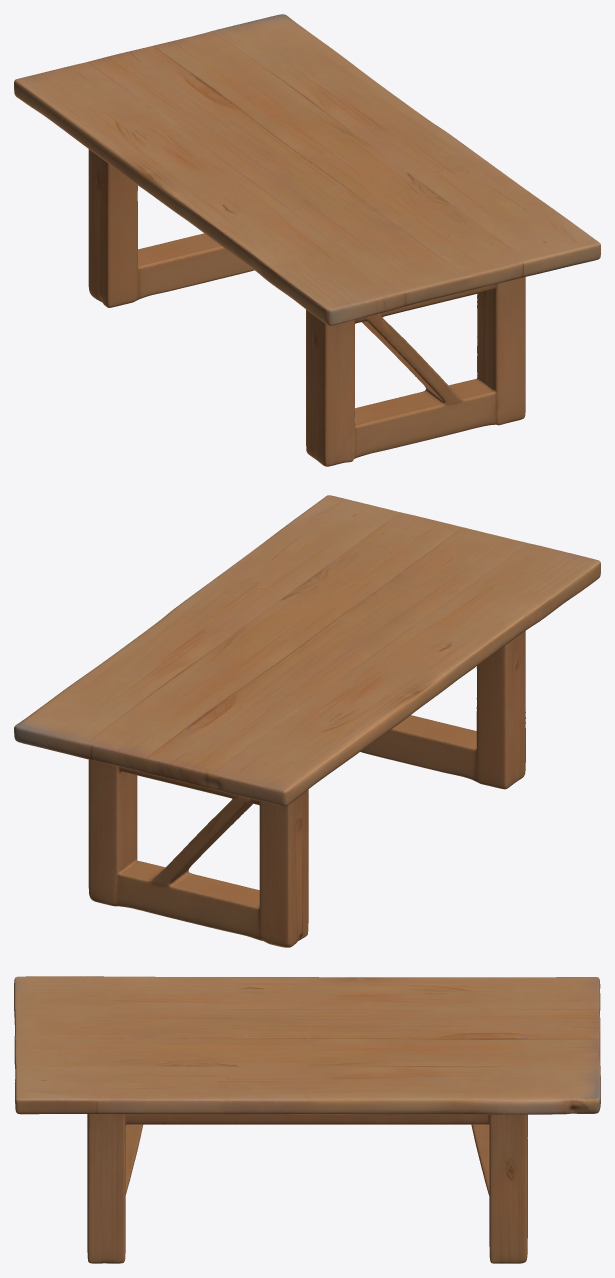
Rendered from detailed_realistic_model_largeoaktable_11.glb.
The picture shows the model from 3 angles, top to bottom: view 1: azimuth 30°, elevation 25°; view 2: azimuth 150°, elevation 25°; view 3: azimuth 270°, elevation 25°; orthographic projection. The views are drawn at different scales.
Visible parts, largest first — view 1: tripo_node_21d2972a-1b0b-476d-8f6f-d5ea70377753; view 2: tripo_node_21d2972a-1b0b-476d-8f6f-d5ea70377753; view 3: tripo_node_21d2972a-1b0b-476d-8f6f-d5ea70377753.
Boxes of the visible parts, x1,y1,x2,y2 form: tripo_node_21d2972a-1b0b-476d-8f6f-d5ea70377753: [14, 14, 600, 466]; tripo_node_21d2972a-1b0b-476d-8f6f-d5ea70377753: [14, 495, 600, 947]; tripo_node_21d2972a-1b0b-476d-8f6f-d5ea70377753: [14, 976, 600, 1263].
Bounding box in the file's own units: 0.5016 × 0.3446 × 1.
1 material, 1 textured.
